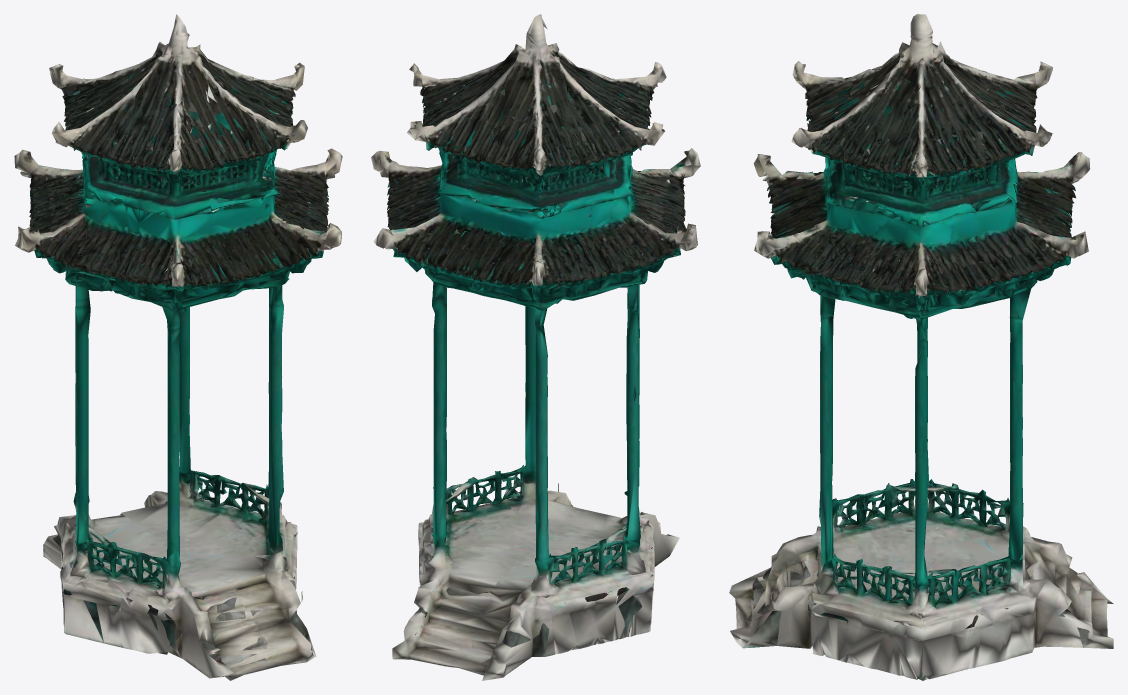
File: bq_herb_pav.glb
3 views of the same model, side by side, from view 1: azimuth 30°, elevation 25°; view 2: azimuth 150°, elevation 25°; view 3: azimuth 270°, elevation 25° (orthographic). The views are drawn at different scales.
Size of the model in its own units: 1.1 by 1.9 by 1.09.
1 material, 1 textured.
